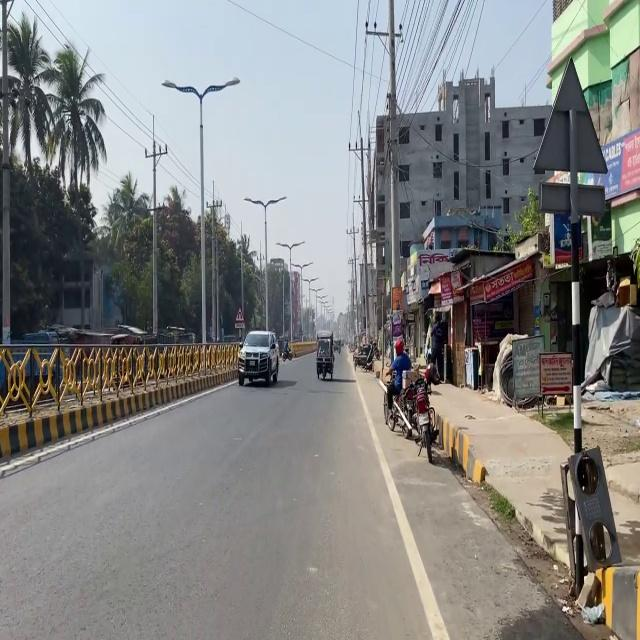Broken-road: (232, 320, 296, 394)
Construction-barrier: (433, 411, 573, 576)
Fallen-tree: (280, 339, 293, 361)
Garbage: (559, 444, 622, 599)
Light-pole: (568, 109, 583, 453)
Pole: (8, 322, 222, 462)
Pothole: (369, 352, 638, 638)
Rickshaw: (532, 55, 616, 600)
